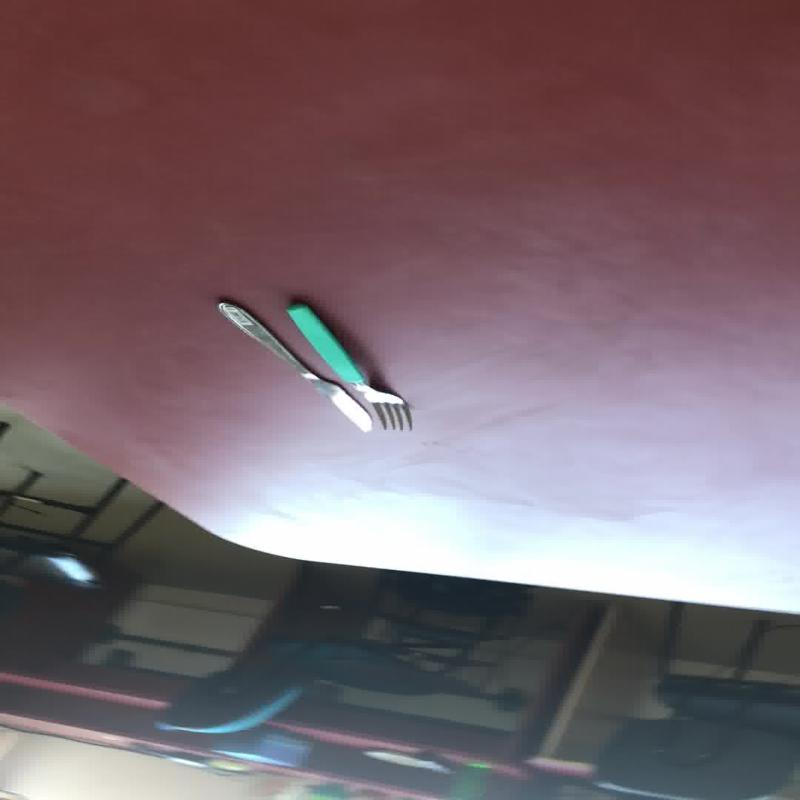fork: (282, 300, 412, 430)
knife: (214, 299, 374, 432)
